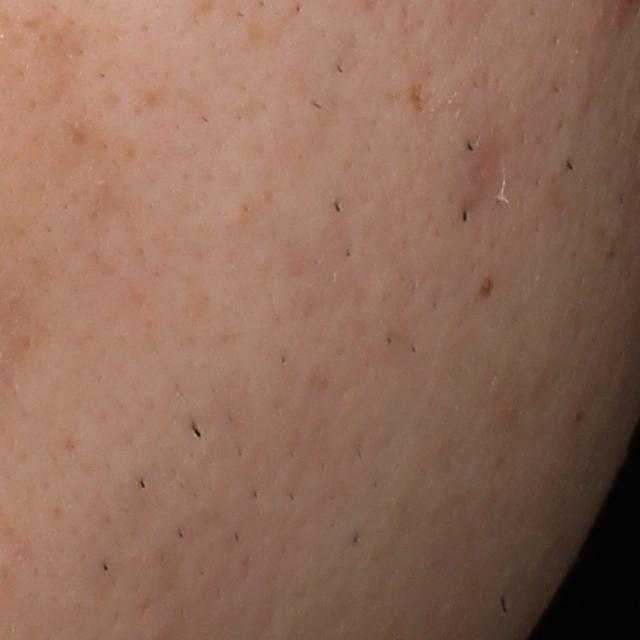nevus: (478, 271, 499, 299)
